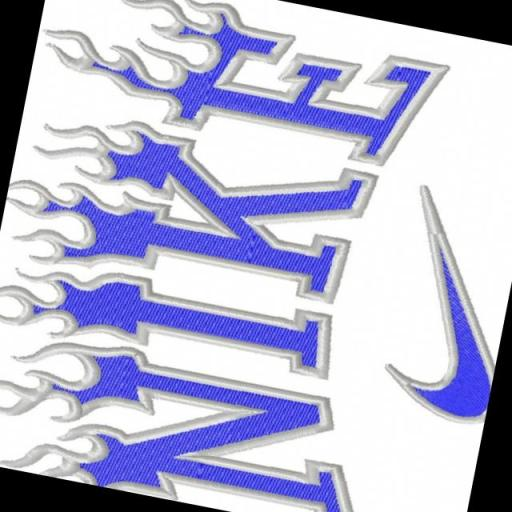Nike: (402, 232, 512, 422)
